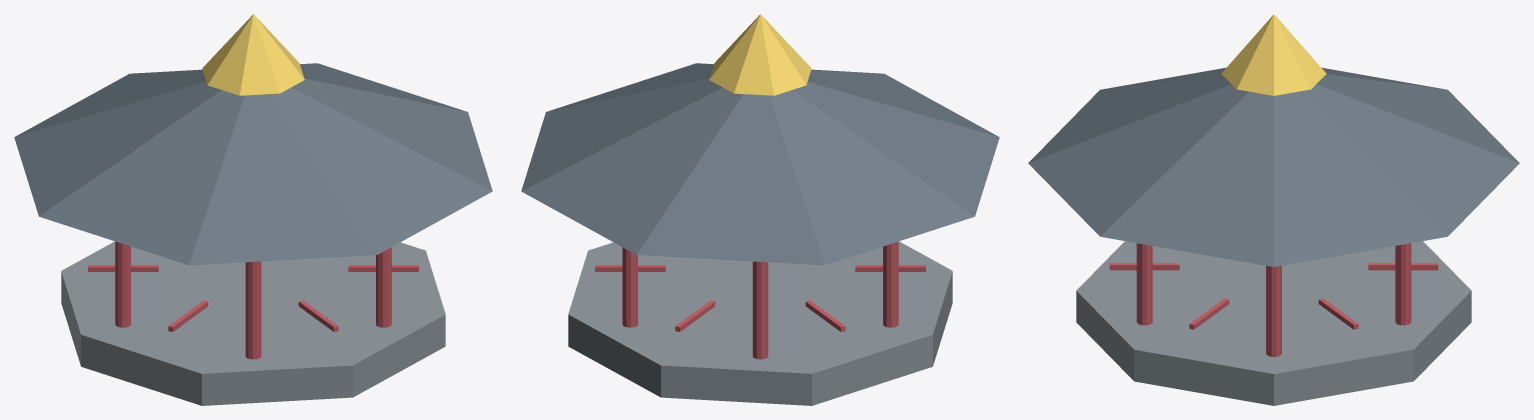
The model's file is pavilion.glb.
3 views of the same model, side by side, from view 1: azimuth 30°, elevation 25°; view 2: azimuth 150°, elevation 25°; view 3: azimuth 270°, elevation 25° (orthographic).
Visible parts, largest first — view 1: Wuxia_Pavilion; view 2: Wuxia_Pavilion; view 3: Wuxia_Pavilion.
Part boxes in pixels (x1=…): Wuxia_Pavilion: x1=14, y1=14, x2=492, y2=405; Wuxia_Pavilion: x1=521, y1=14, x2=999, y2=405; Wuxia_Pavilion: x1=1028, y1=14, x2=1519, y2=405.
Bounding box in the file's own units: 11.2 × 7.75 × 11.2.
